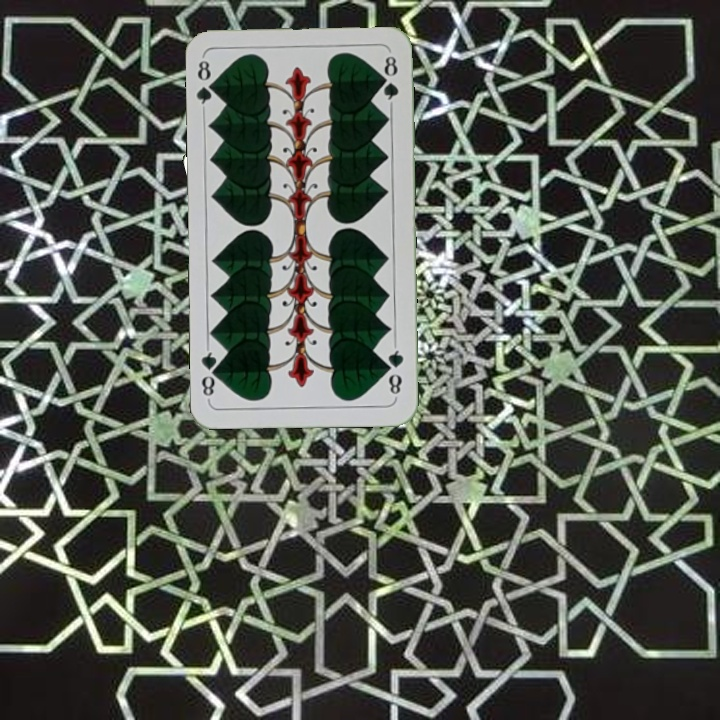G8: (193, 54, 220, 113), (382, 341, 406, 400)
